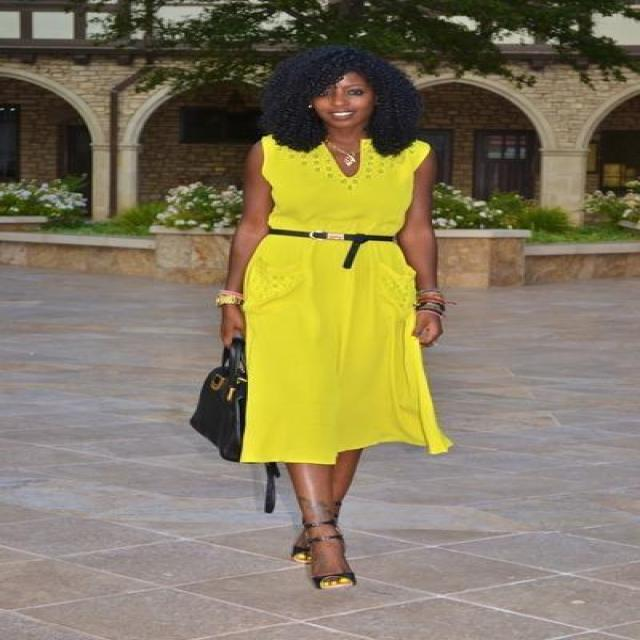bag: (190, 345, 247, 462)
dress: (238, 138, 450, 472)
shoe: (291, 517, 355, 588)
